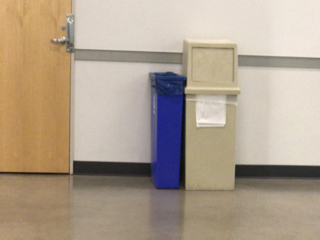Obstacle: (2, 3, 318, 185), (134, 32, 242, 194)
